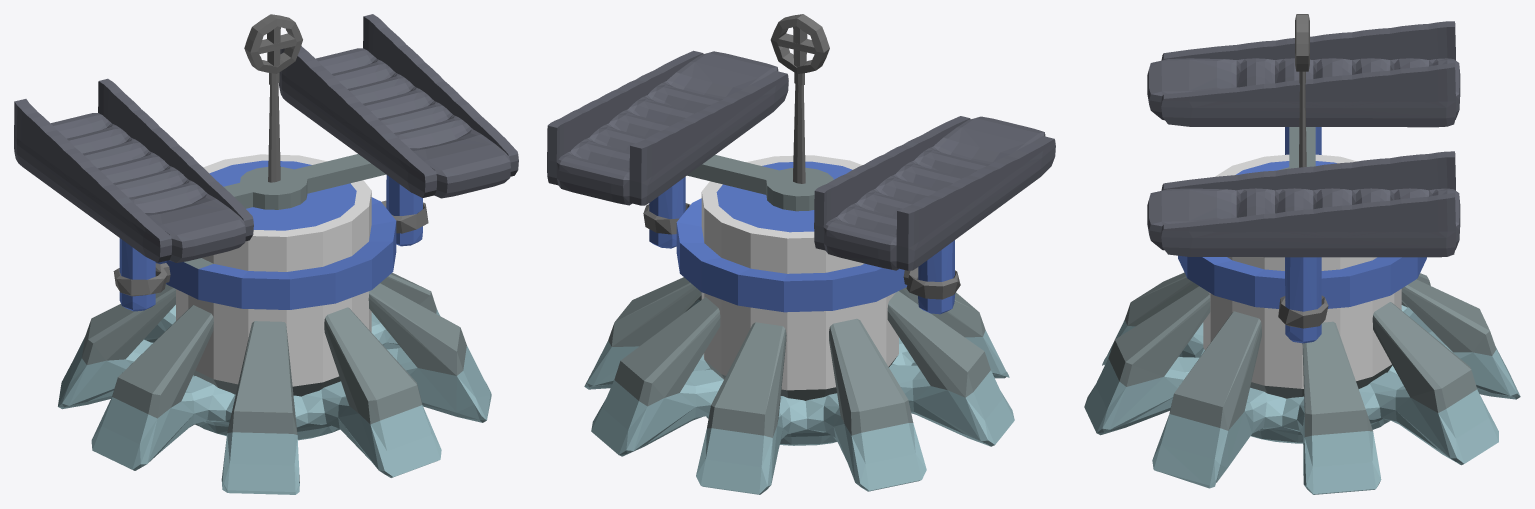
Rendered from rocketlauncher_level7.fbx.
3 views of the same model, side by side, from view 1: azimuth 30°, elevation 25°; view 2: azimuth 150°, elevation 25°; view 3: azimuth 270°, elevation 25° (orthographic).
Parts seen in each view (by area): view 1: powersupply.004, reactor, settlement_place.007, settlement_place.008, focus_point.001, holder3.004, holder3.005, focus_point_bottom.001, holder.005, holder.004; view 2: powersupply.004, reactor, settlement_place.007, settlement_place.008, focus_point.001, holder3.004, holder3.005, focus_point_bottom.001, holder.005, holder.004; view 3: powersupply.004, settlement_place.008, settlement_place.007, reactor, holder3.005, holder.004, focus_point.001, focus_point_bottom.001.
Part boxes in pixels (x1,y1,x2,y2): powersupply.004: (58,273,491,494); reactor: (155,154,396,396); settlement_place.007: (14,78,253,262); settlement_place.008: (279,14,518,198); focus_point.001: (244,14,302,73); holder3.004: (119,238,155,311); holder3.005: (386,175,422,246); focus_point_bottom.001: (268,72,280,182); holder.005: (113,263,170,296); holder.004: (381,200,428,233); powersupply.004: (584,277,1014,494); reactor: (676,155,907,400); settlement_place.007: (814,116,1055,270); settlement_place.008: (547,50,788,205); focus_point.001: (770,14,829,74); holder3.004: (918,240,955,314); holder3.005: (649,177,685,248); focus_point_bottom.001: (793,72,805,183); holder.005: (903,267,960,299); holder.004: (643,203,690,234); powersupply.004: (1084,272,1520,494); settlement_place.008: (1147,151,1460,257); settlement_place.007: (1147,21,1460,127); reactor: (1178,127,1426,398); holder3.005: (1285,257,1321,343); holder.004: (1278,295,1328,328); focus_point.001: (1295,14,1309,71); focus_point_bottom.001: (1299,71,1306,167).
Size of the model in its own units: 86.83 by 86.13 by 86.78.
